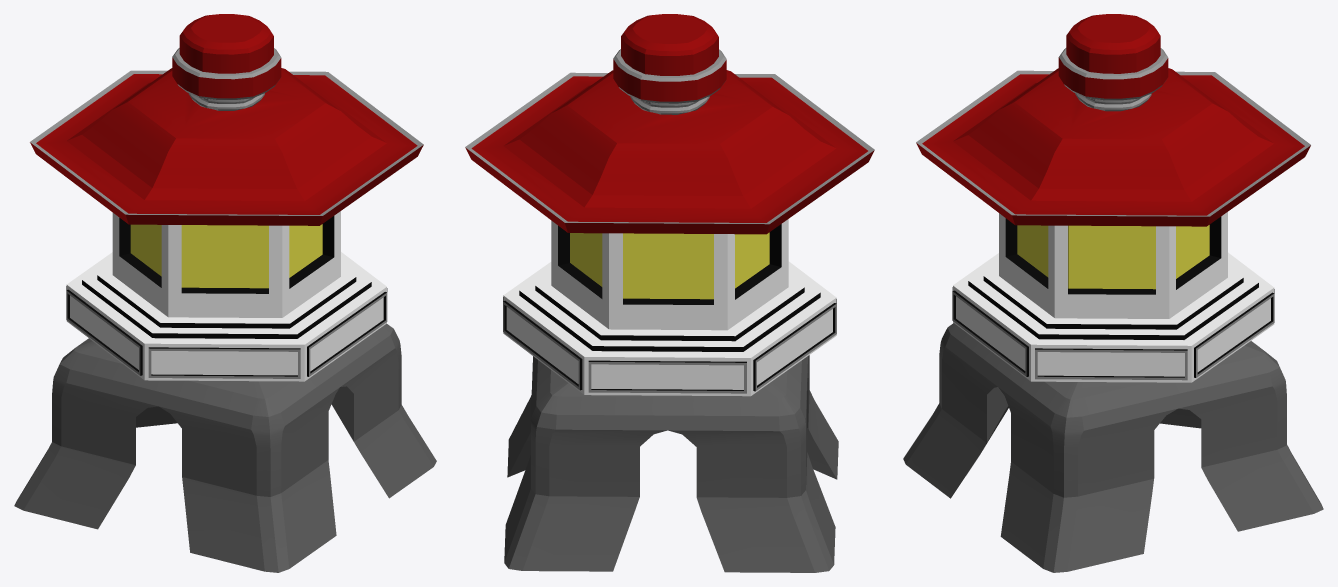
Rendered from LampeJ.FBX.
3 renders of one model, left to right at view 1: azimuth 30°, elevation 25°; view 2: azimuth 150°, elevation 25°; view 3: azimuth 270°, elevation 25°, orthographic. The views are drawn at different scales.
Parts seen in each view (by area): view 1: NGon001; view 2: NGon001; view 3: NGon001.
Boxes of the visible parts, box(x1,y1,x2,y2) form: NGon001: box(14, 14, 436, 572); NGon001: box(465, 14, 874, 572); NGon001: box(903, 14, 1323, 572).
Bounding box in the file's own units: 69.02 × 82.61 × 69.02.
